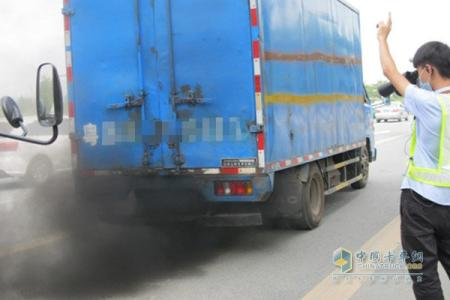smoke: (1, 176, 207, 300)
